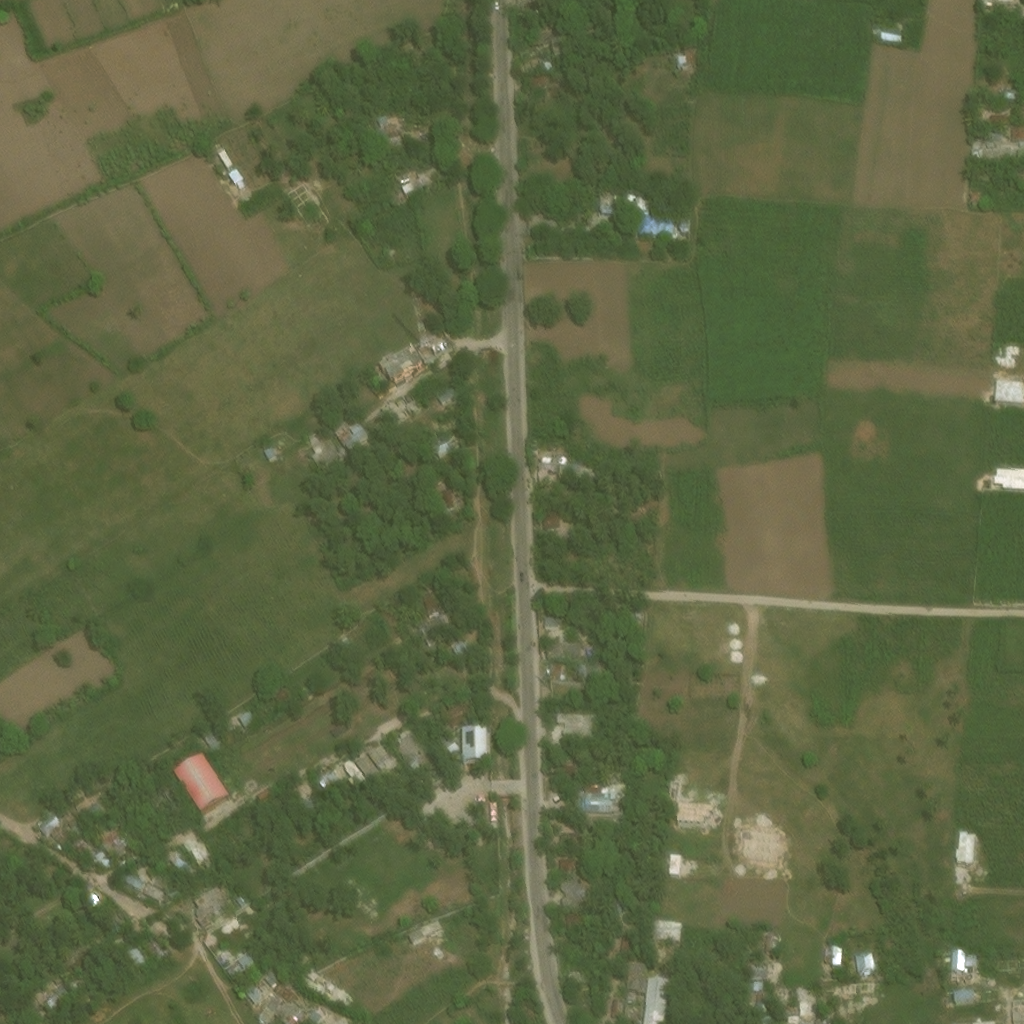major_damage: (259, 993, 302, 1023), (970, 139, 1017, 161)
minor_damage: (580, 788, 623, 818), (555, 704, 594, 726), (536, 453, 568, 476), (98, 825, 129, 848), (544, 636, 581, 653), (187, 833, 211, 858), (124, 867, 146, 890), (45, 805, 68, 827), (68, 831, 92, 852), (405, 931, 429, 949), (144, 934, 165, 954), (622, 999, 640, 1019), (761, 926, 776, 949), (262, 968, 281, 986), (823, 942, 839, 963), (751, 987, 764, 1009), (804, 985, 814, 1013), (53, 827, 69, 843), (750, 963, 768, 977), (583, 778, 603, 790), (219, 944, 235, 959), (1012, 126, 1023, 142), (813, 1017, 823, 1023)
no_damage: (370, 341, 422, 382), (392, 721, 434, 771), (419, 606, 459, 639), (642, 974, 670, 1013), (512, 55, 550, 83), (558, 467, 606, 488), (351, 749, 382, 781), (365, 738, 392, 772), (561, 874, 587, 907), (642, 216, 675, 236), (428, 432, 454, 457), (600, 196, 637, 213), (78, 796, 105, 819), (171, 851, 195, 875), (160, 778, 186, 800), (547, 38, 574, 59), (395, 170, 423, 190), (379, 119, 402, 143), (124, 942, 147, 966), (101, 906, 124, 930), (346, 416, 368, 440), (526, 27, 557, 44), (447, 634, 472, 655), (86, 935, 110, 956), (550, 754, 575, 774), (437, 694, 462, 714), (442, 704, 466, 723), (45, 982, 67, 1002), (575, 659, 600, 676), (316, 765, 337, 784), (988, 108, 1011, 125), (555, 853, 578, 869), (202, 728, 221, 747), (563, 911, 585, 927), (437, 484, 452, 507), (420, 589, 438, 608), (149, 869, 167, 887), (605, 894, 622, 913), (563, 829, 583, 845), (70, 977, 87, 995), (428, 331, 446, 348), (540, 513, 560, 527), (608, 991, 621, 1010), (309, 758, 324, 773), (437, 411, 453, 425), (540, 611, 557, 624), (854, 961, 867, 976), (969, 192, 984, 204), (989, 130, 1003, 141), (675, 56, 688, 66), (542, 656, 551, 666), (51, 972, 60, 981), (681, 225, 690, 233), (555, 666, 564, 673)
unclassified: (544, 586, 576, 602), (65, 951, 88, 972), (2, 955, 22, 975), (990, 0, 1022, 5), (522, 947, 529, 958), (1017, 172, 1023, 182), (1018, 150, 1023, 160)
